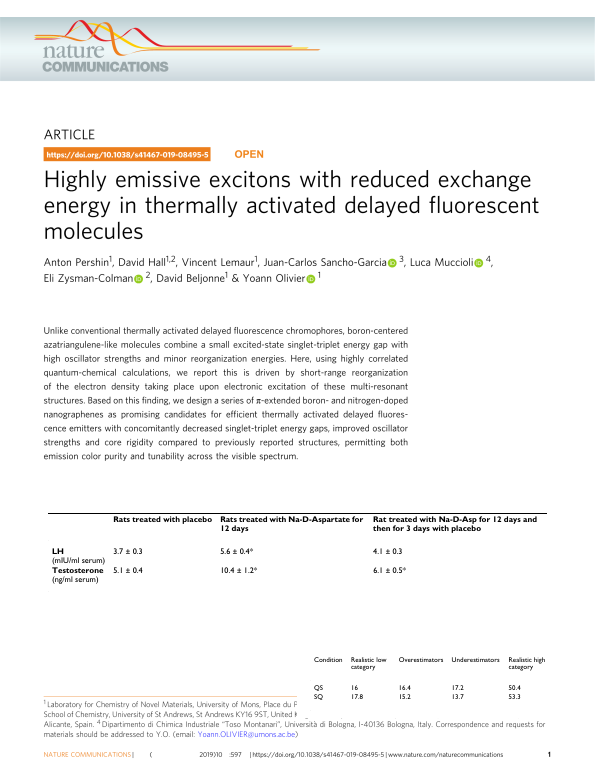borderless: (46, 511, 548, 593), (308, 654, 548, 712)
cell: (372, 516, 537, 534), (219, 516, 364, 534), (50, 547, 106, 566), (50, 567, 104, 585), (112, 516, 213, 525), (507, 656, 546, 672), (349, 656, 387, 672), (450, 656, 500, 665), (397, 656, 444, 665), (219, 566, 258, 576), (219, 547, 254, 557), (372, 566, 406, 576), (112, 547, 143, 557), (372, 547, 403, 557), (112, 566, 143, 576), (313, 656, 343, 665), (397, 684, 411, 693), (450, 684, 464, 693), (507, 684, 521, 693), (349, 693, 363, 702), (397, 693, 411, 702), (450, 693, 464, 702), (507, 693, 521, 702), (313, 684, 323, 693), (313, 693, 323, 702), (349, 684, 358, 693)
